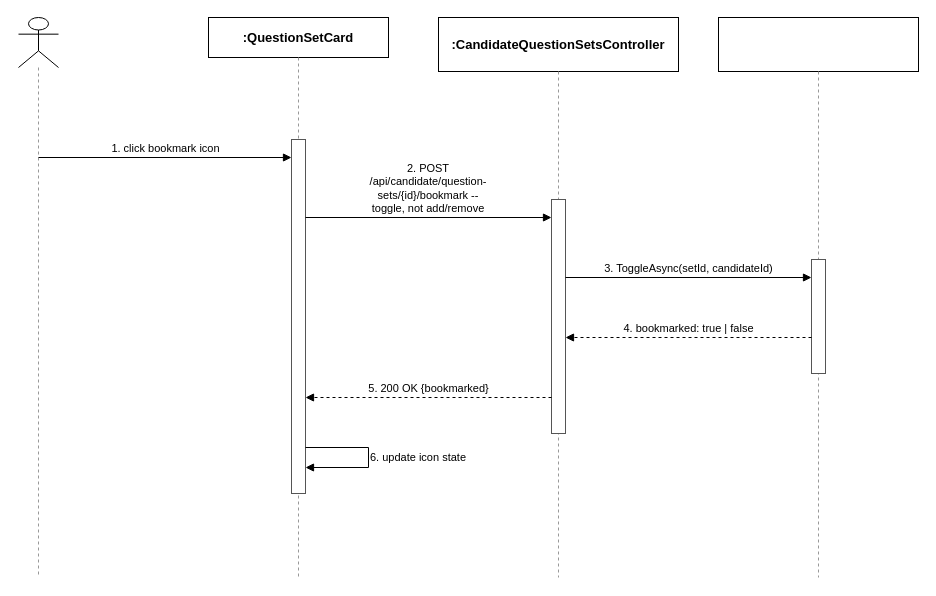
This 936x596 diagram has some shape labels left out. The box of each missing label's shape, as (x1, y1, x2, y2) in pixels:
:CandidateBookmarkService: (718, 16, 918, 72)
Job Seeker: (18, 16, 58, 68)
